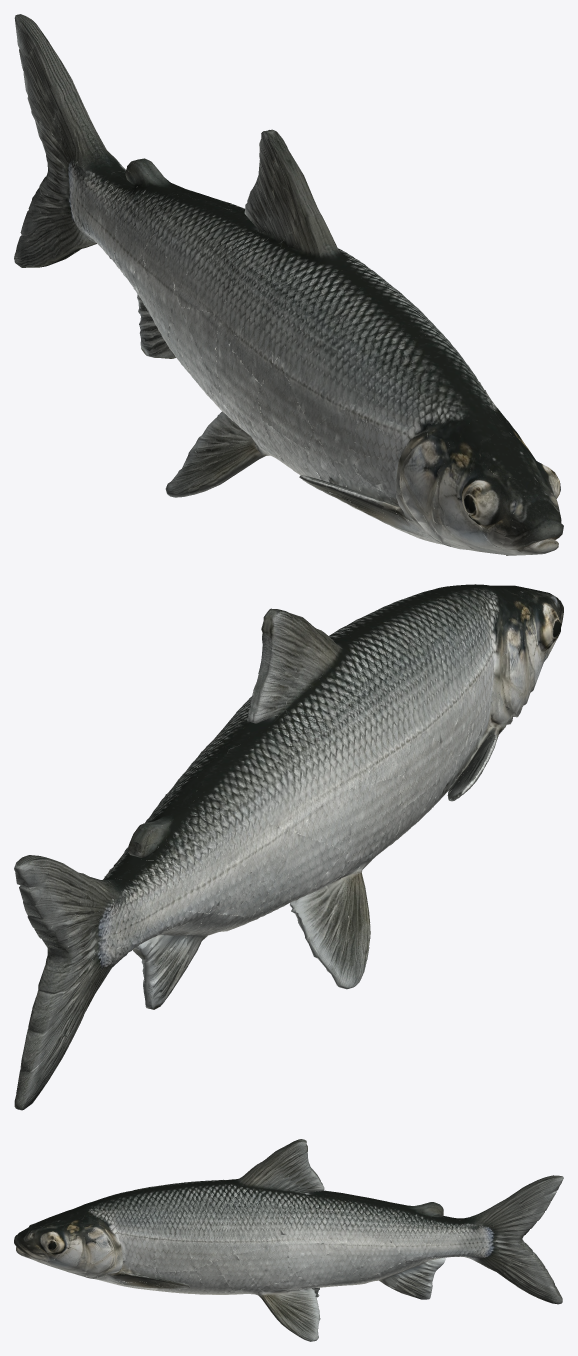
Rendered from sieja.glb.
3 renders of one model, top to bottom at view 1: azimuth 30°, elevation 25°; view 2: azimuth 150°, elevation 25°; view 3: azimuth 270°, elevation 25°, orthographic. The views are drawn at different scales.
Parts seen in each view (by area): view 1: Mesh_0; view 2: Mesh_0; view 3: Mesh_0.
Part boxes in pixels (x1,y1,x2,y2): Mesh_0: (14, 14, 563, 555); Mesh_0: (14, 584, 563, 1110); Mesh_0: (14, 1139, 563, 1341).
Size of the model in its own units: 0.3803 by 0.685 by 1.9.
Materials: 1 (1 with a texture image).
